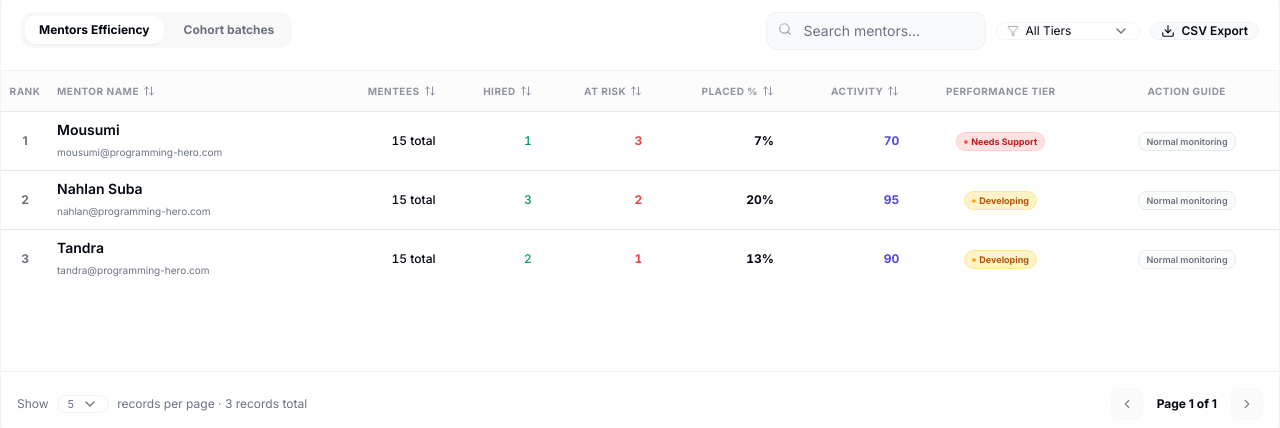
DetailedAnalyticsTable › Switches to Cohort tab and displays cohort rows
Click "Cohort batches"
Step 1. Click the button "Cohort batches" → (229, 30), box [170,16,288,44]
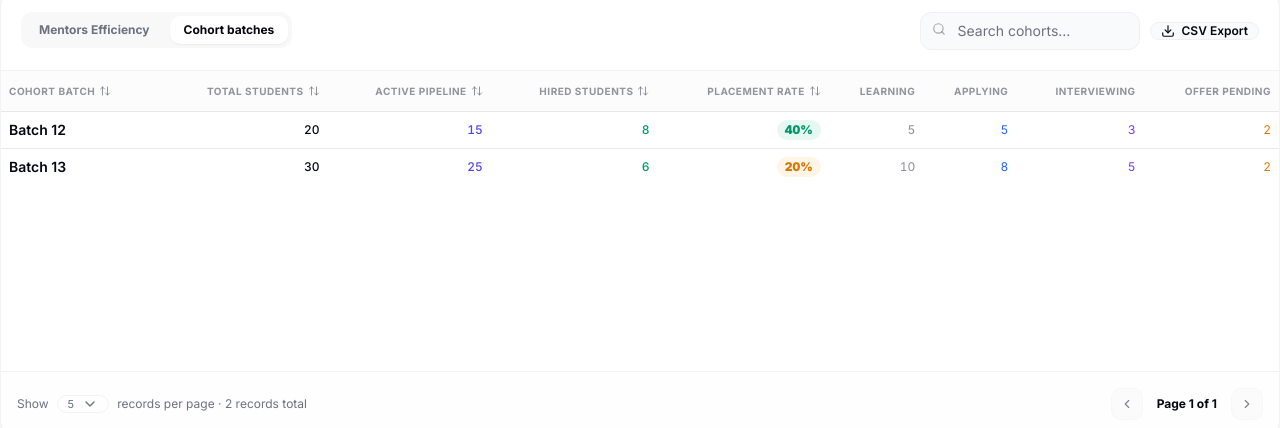
Expected: the text "Cohort batch" is shown, [9,85,111,97]
Expected: the text "Batch 12" is shown, [1,111,158,148]
Expected: the text "Batch 13" is shown, [1,148,158,184]
